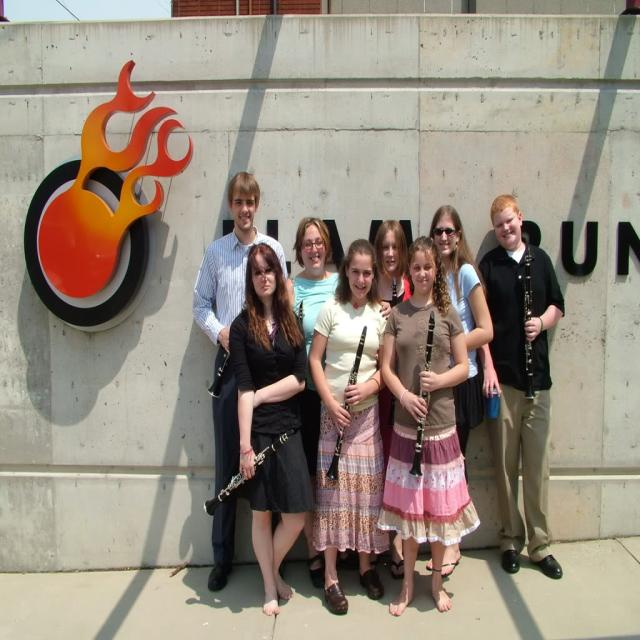clarinet: (199, 417, 309, 520), (324, 319, 370, 491), (409, 311, 441, 478), (515, 242, 541, 408), (203, 334, 231, 401), (384, 276, 402, 307)
